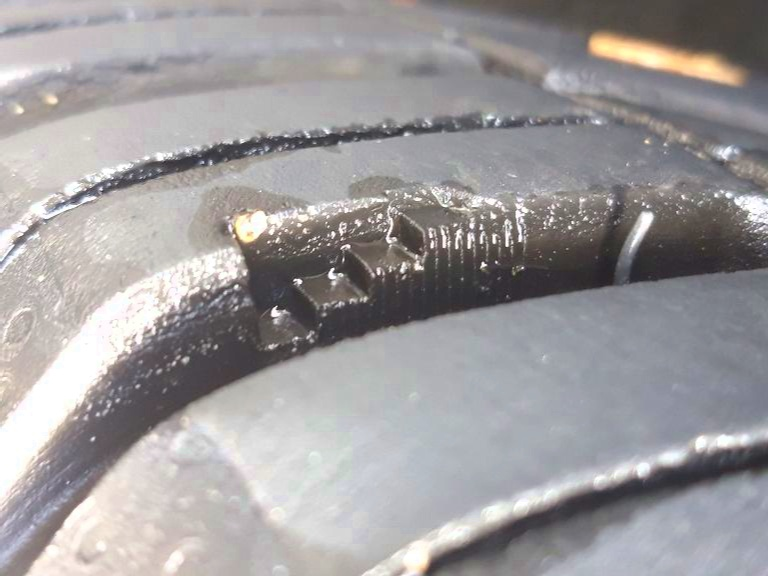temoin:80: (213, 175, 533, 372)
